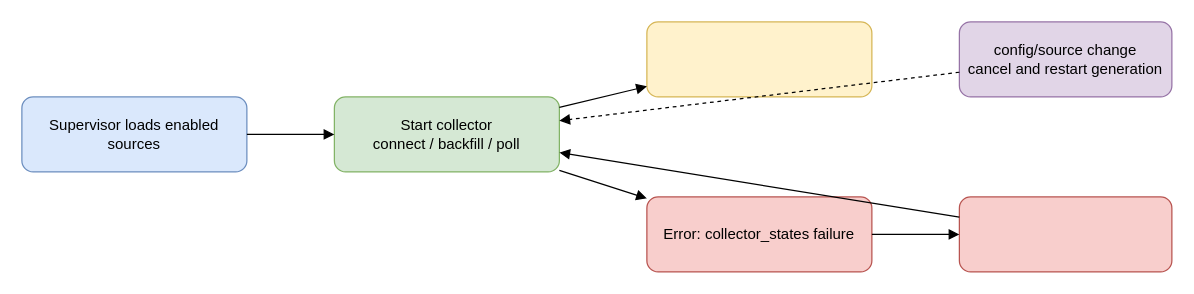
The diagram is 1194 pixels wide and 294 high, and some of its shapes have lost their labels. Here are the shapes that lost their labels. From the top down, the box of each, then its label:
(646, 21, 872, 97): Success: checkpoint + status
(958, 196, 1172, 272): exponential backoff 5 s → max 5 min
